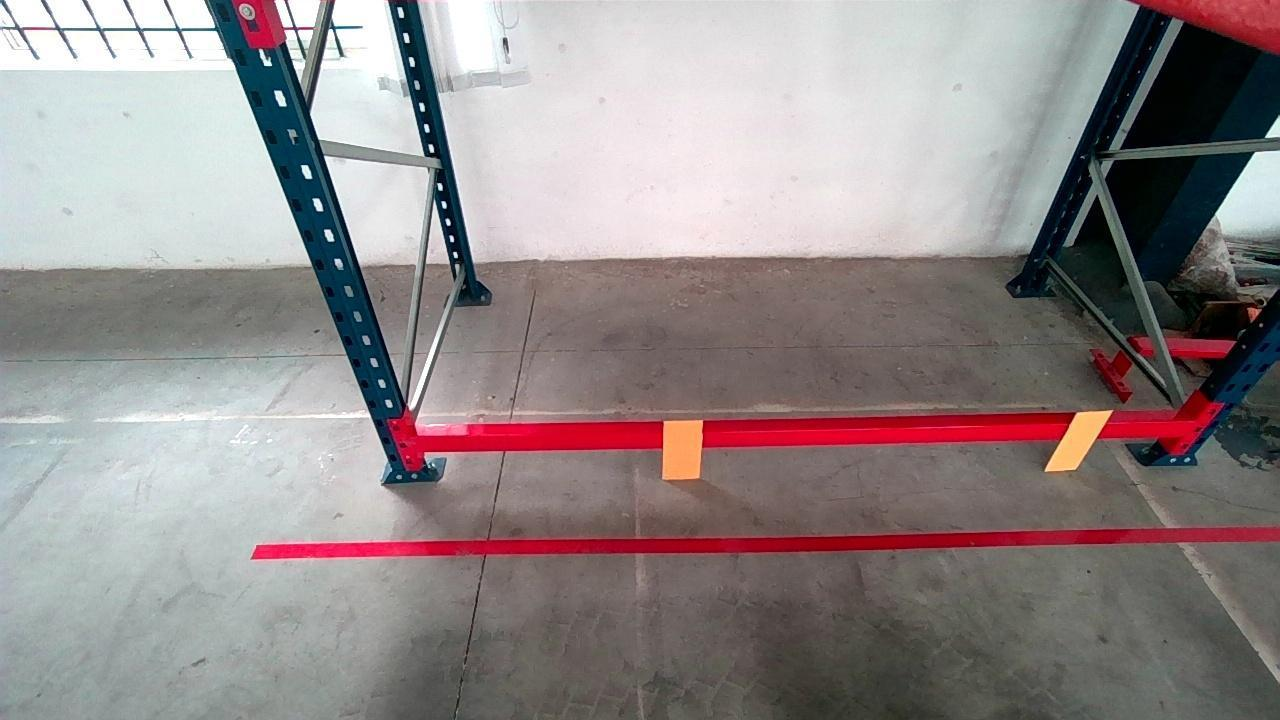h_rack: (420, 408, 1178, 454)
orange_strip: (1046, 408, 1114, 470), (662, 418, 703, 479)
red_line: (259, 521, 1270, 570)
